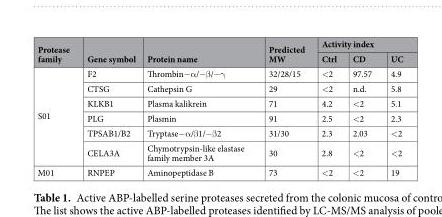table: (36, 37, 402, 178)
table column: (140, 37, 255, 178), (77, 37, 140, 178), (255, 37, 312, 178), (36, 37, 77, 178), (343, 37, 380, 178), (312, 37, 343, 178), (380, 37, 402, 178)
table column header: (36, 37, 402, 65)
table row: (36, 140, 402, 164), (36, 50, 402, 65), (36, 65, 402, 80), (36, 80, 402, 95), (36, 95, 402, 110), (36, 110, 402, 125), (36, 125, 402, 140), (36, 164, 402, 178), (36, 37, 402, 50)
table spanning cell: (36, 65, 77, 164), (140, 37, 255, 65), (77, 37, 140, 65), (255, 37, 312, 65), (312, 37, 402, 50), (36, 37, 77, 65)
